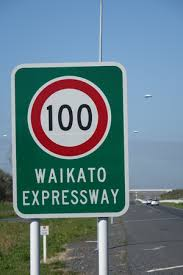Speed_limit_100km: (27, 75, 112, 160)
